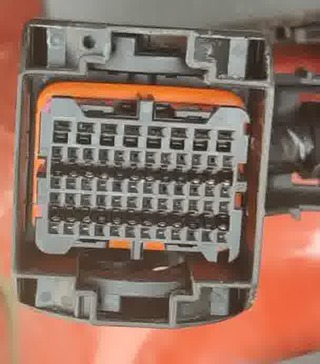connector: (12, 19, 274, 330)
